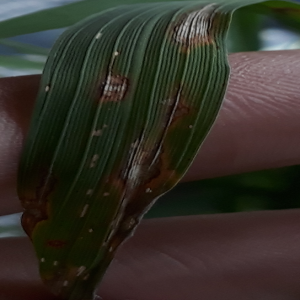Rice_Blast: (103, 128, 182, 192), (172, 1, 230, 62), (2, 177, 51, 234), (93, 65, 138, 108), (44, 230, 76, 253)
